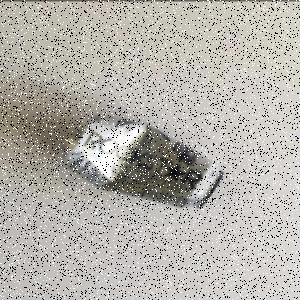Can: (55, 114, 225, 210)
